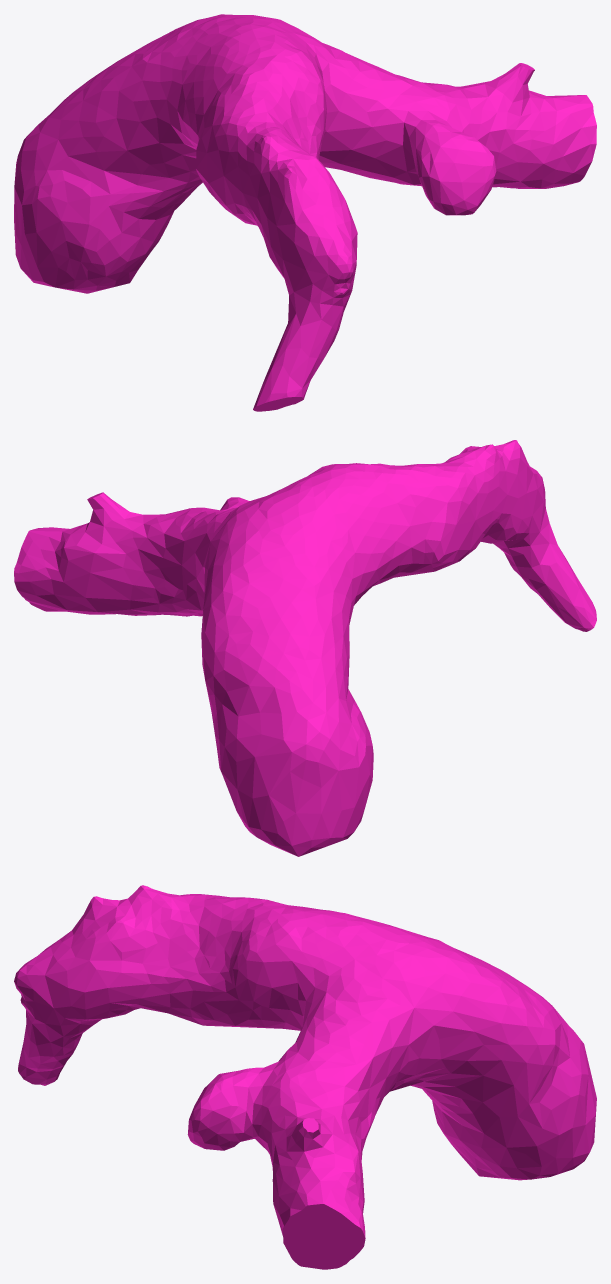
The model's file is pulmonary_artery.glb.
3 views of the same model, one above another, from view 1: azimuth 30°, elevation 25°; view 2: azimuth 150°, elevation 25°; view 3: azimuth 270°, elevation 25° (orthographic). The views are drawn at different scales.
Parts seen in each view (by area): view 1: PULMONARY ARTERY; view 2: PULMONARY ARTERY; view 3: PULMONARY ARTERY.
Boxes of the visible parts, x1,y1,x2,y2 form: PULMONARY ARTERY: [14, 14, 596, 411]; PULMONARY ARTERY: [14, 440, 596, 856]; PULMONARY ARTERY: [14, 885, 596, 1269].
Size of the model in its own units: 96.44 by 56.89 by 105.
